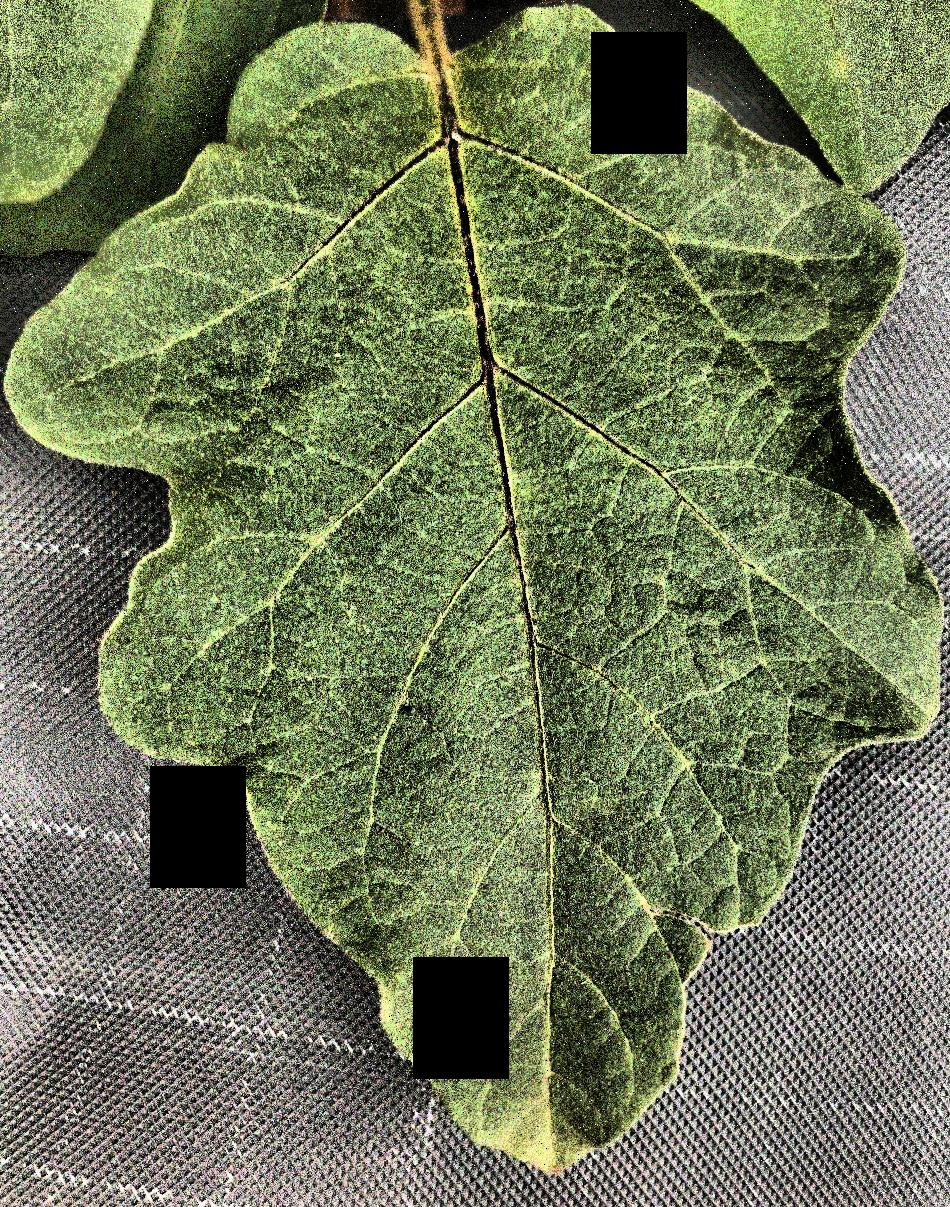HEALTHY: (0, 1, 950, 1207)
